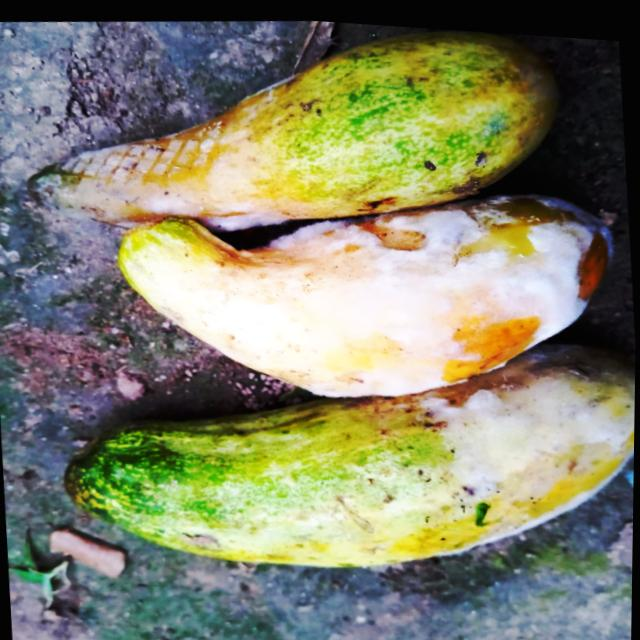Pythium-Fruit-Rot: (215, 165, 629, 421), (355, 316, 637, 575), (48, 56, 307, 278)
